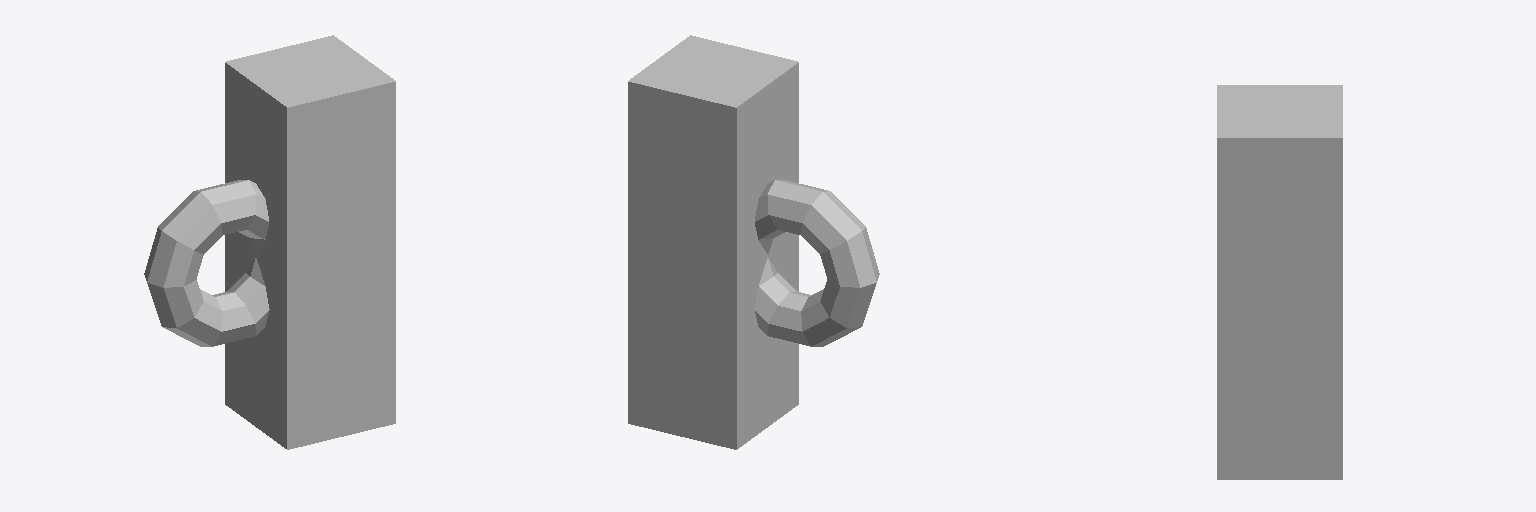
Rendered from Bar03.obj.
3 views of the same model, side by side, from view 1: azimuth 30°, elevation 25°; view 2: azimuth 150°, elevation 25°; view 3: azimuth 270°, elevation 25° (orthographic).
Parts seen in each view (by area): view 1: Bar03; view 2: Bar03; view 3: Bar03.
Part boxes in pixels (bbox=[...]): Bar03: bbox=[144, 35, 395, 449]; Bar03: bbox=[628, 35, 879, 449]; Bar03: bbox=[1217, 85, 1342, 479].
Bounding box in the file's own units: 1.33 × 2 × 0.6667.